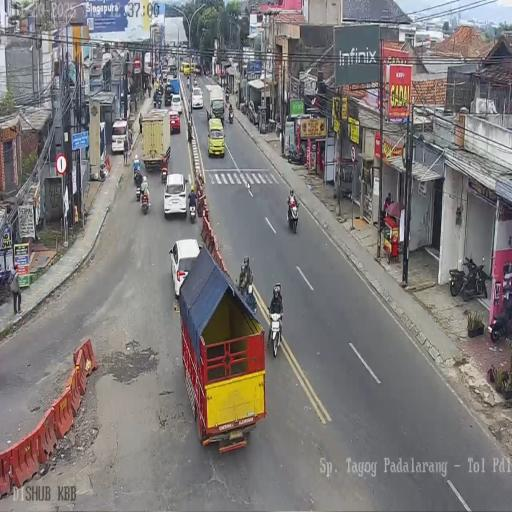3: (176, 245, 266, 450), (140, 110, 171, 172), (204, 84, 224, 124), (144, 52, 152, 75), (167, 56, 176, 73)
car: (170, 238, 202, 299), (162, 171, 188, 218), (207, 117, 226, 157), (112, 119, 130, 155), (168, 110, 180, 134), (191, 86, 204, 108), (170, 94, 183, 114), (164, 83, 174, 106), (183, 64, 190, 75), (162, 70, 168, 82), (195, 64, 201, 74)
truck: (462, 255, 488, 302), (488, 295, 510, 342), (268, 309, 283, 357), (287, 143, 306, 166), (287, 198, 299, 233), (140, 187, 150, 214), (188, 196, 197, 222), (135, 176, 142, 202), (275, 118, 282, 137), (154, 92, 161, 108), (240, 100, 247, 115), (228, 107, 234, 124), (225, 89, 229, 102), (235, 98, 239, 111), (204, 68, 210, 76), (186, 77, 190, 88), (193, 76, 197, 86)
